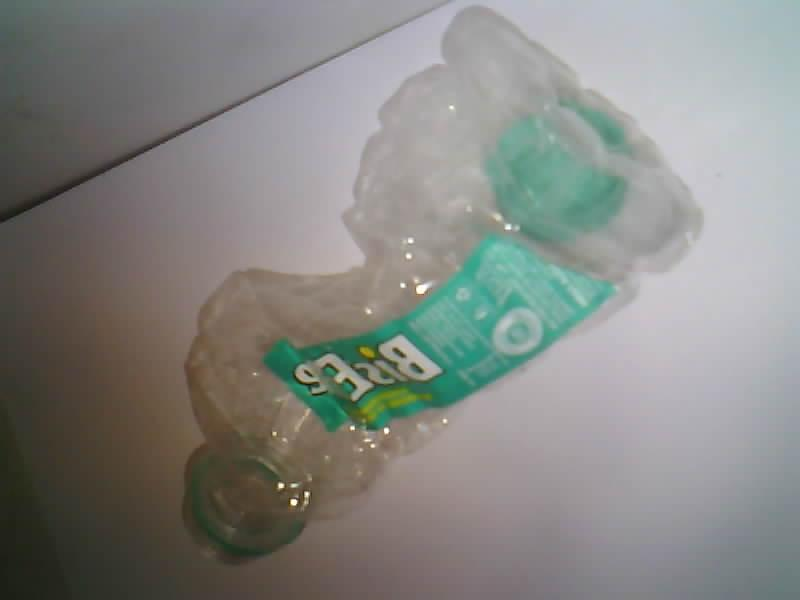non-biodegradable: (187, 7, 696, 555)
